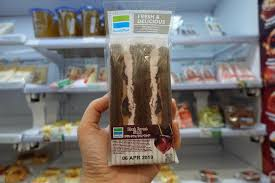sandwich: (95, 4, 189, 172)
